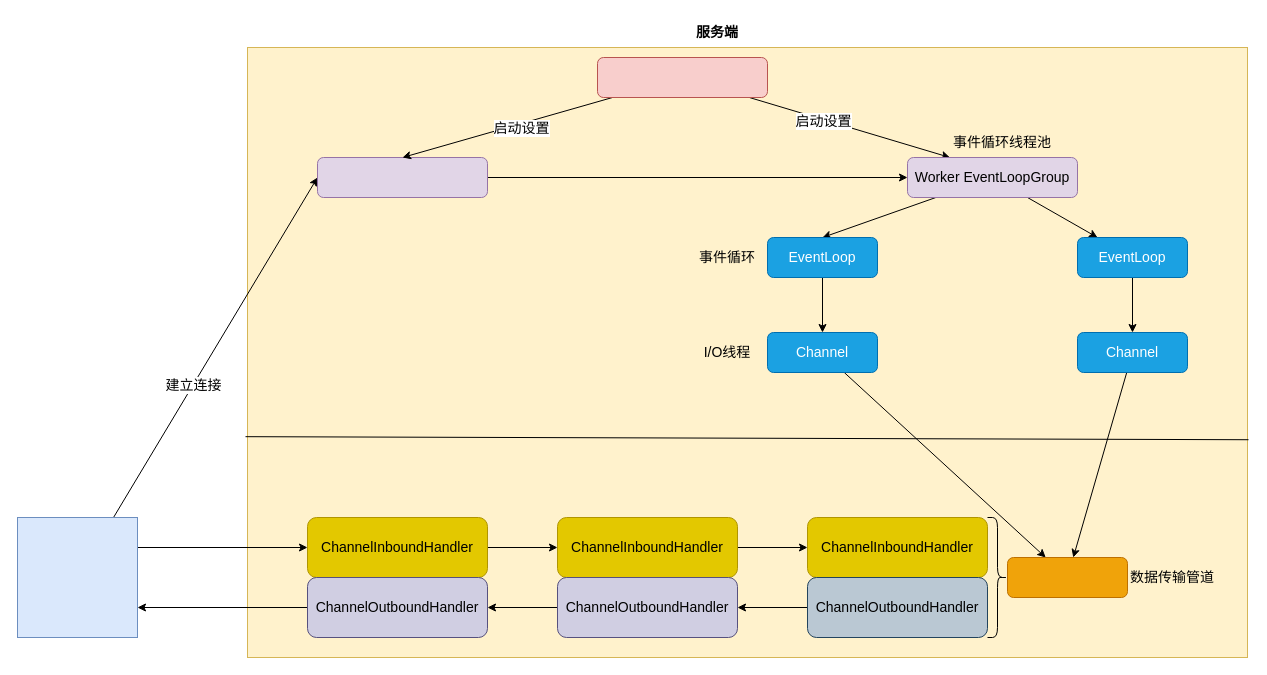
The diagram is 1267 pixels wide and 675 high, and some of its shapes have lost their labels. Each missing label, with the box of its shape:
Boss EventLoopGroup: (316, 156, 488, 198)
ChannelPipeline: (1006, 556, 1128, 598)
Serverbootstrap: (596, 56, 768, 98)
客户端: (16, 516, 138, 638)
